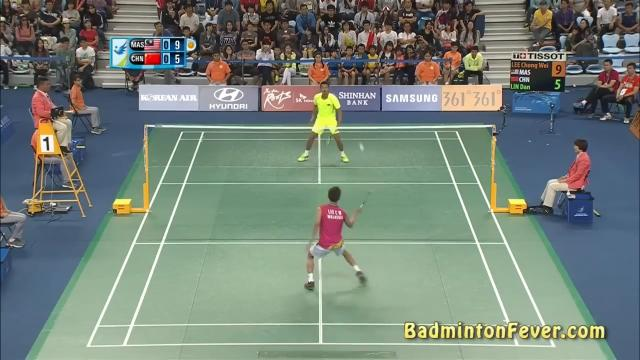Shuttlecock: (357, 143, 365, 153)
